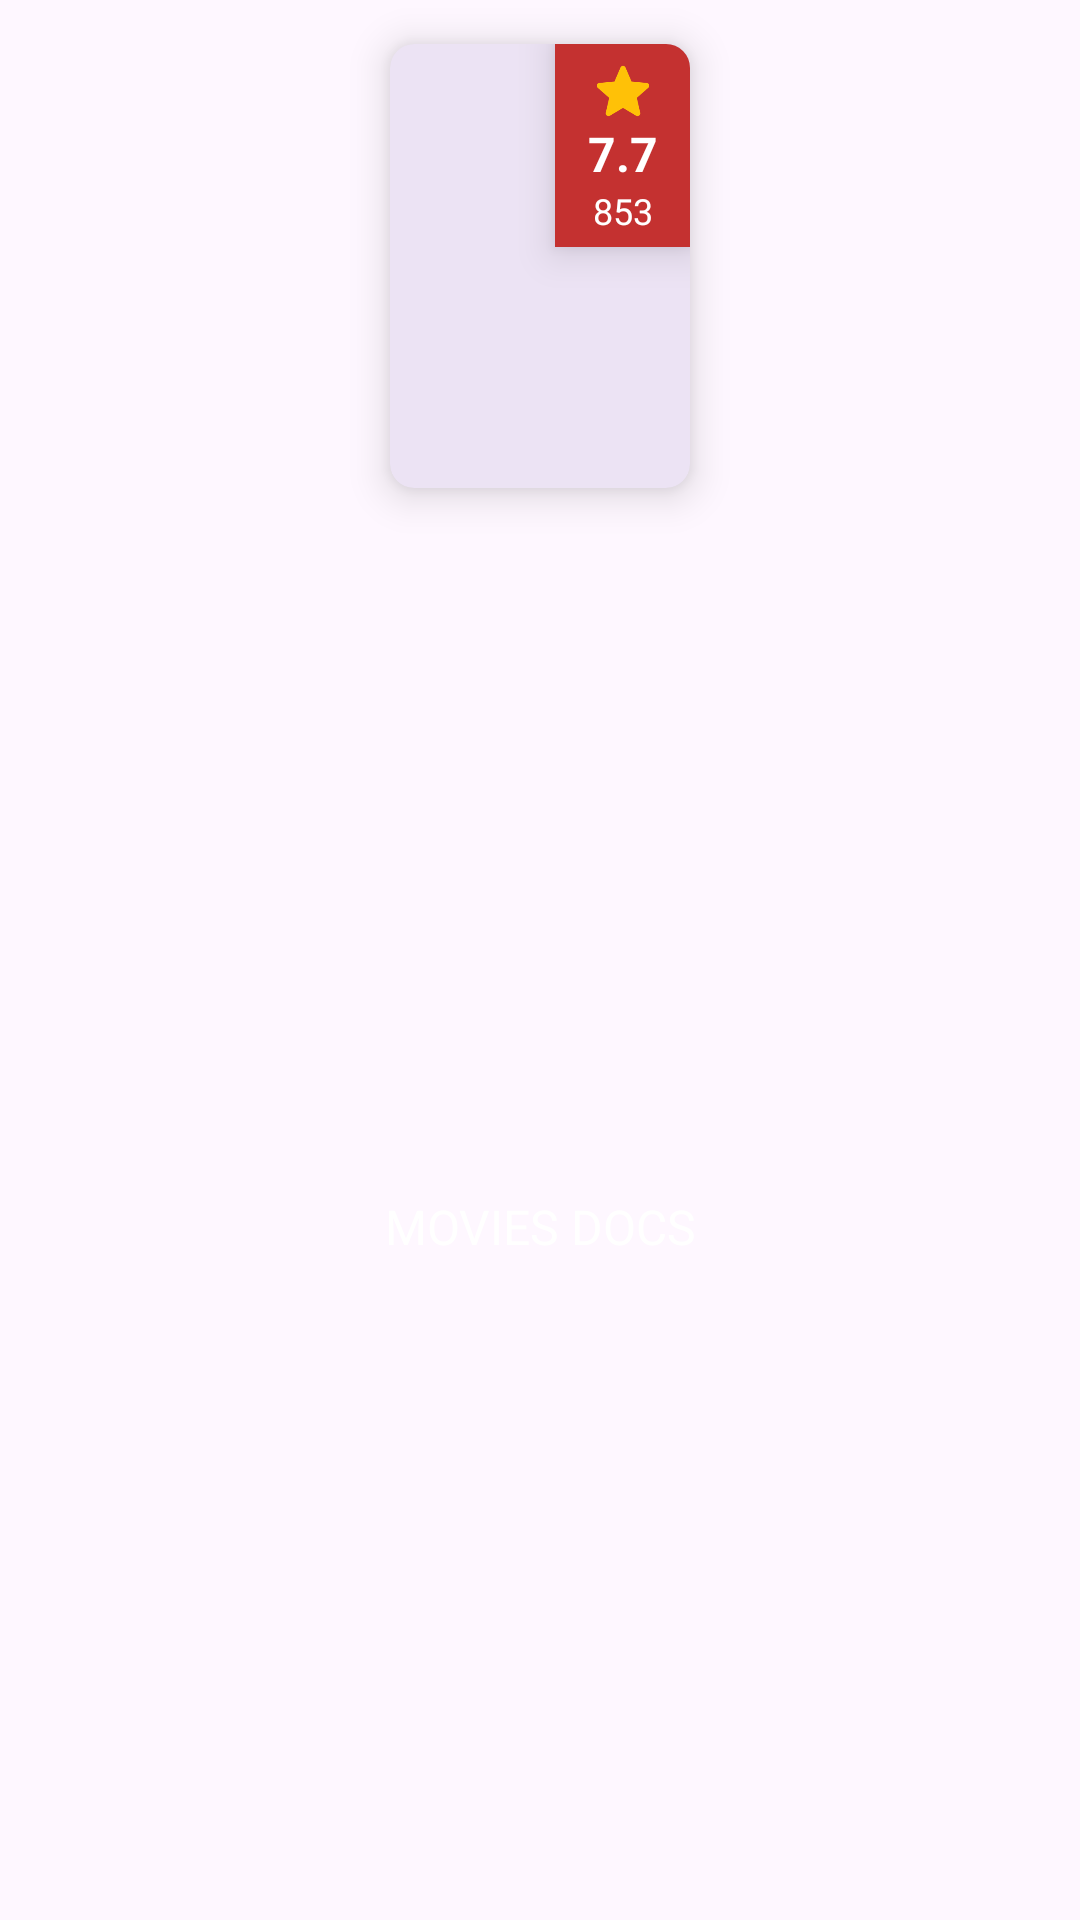

Point at icon controls on the screen. Image size 1080px x 1920px, points as point (x, y).
star rating: point (623, 91)
